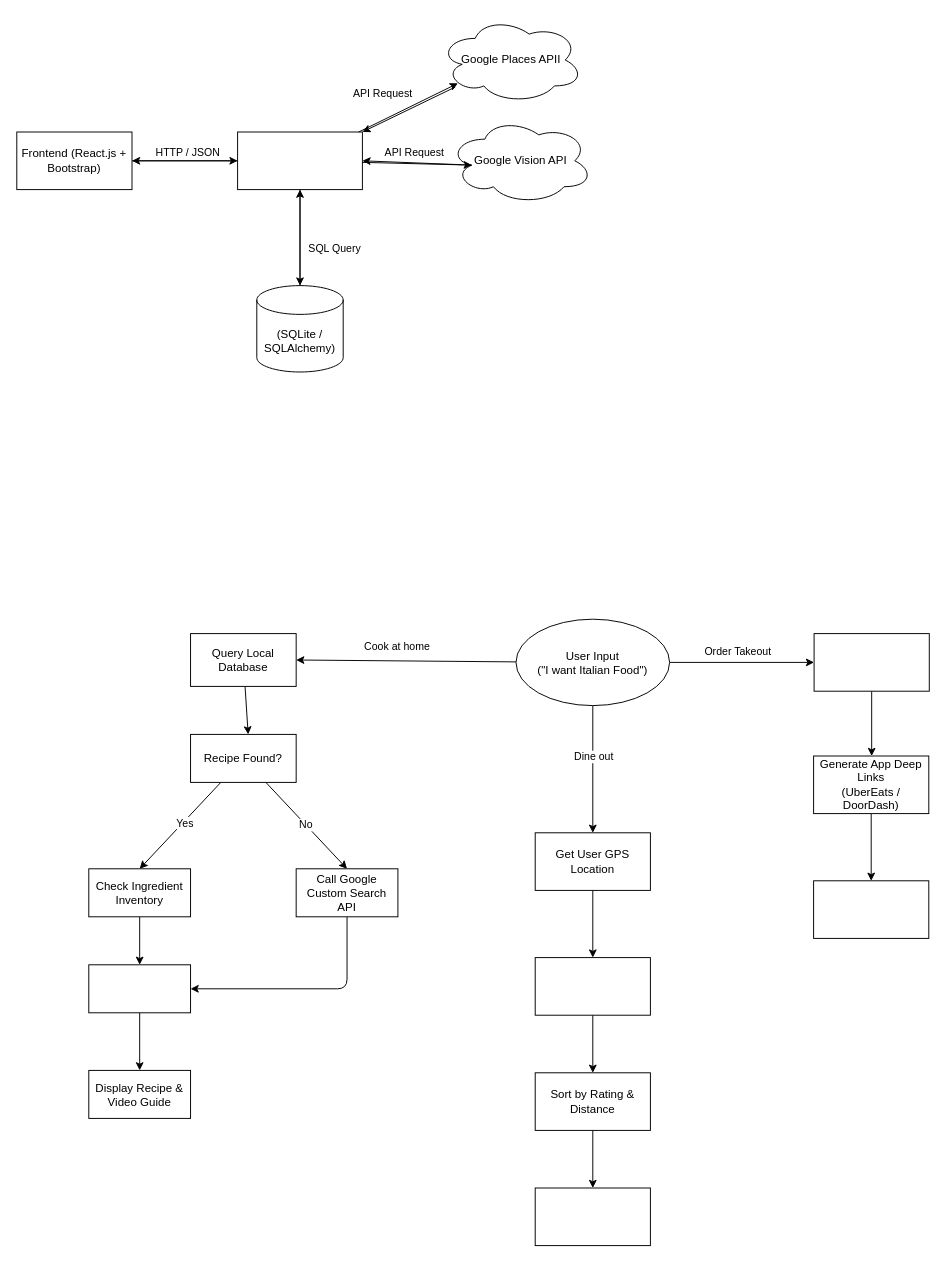
Image size: 947x1262. Some labels were removed from this diagram. The centre of each missing label's shape, as x and y in pixels:
Backend (Python Flask): the point at 299,160
Generate Shopping List (For Missing Items): the point at 139,988
Match Cuisine Category: the point at 871,662
Redirect to Delivery App: the point at 871,909
Render Map & Navigation Info: the point at 592,1216
Request Google Places API (Input: Location + Cuisine): the point at 592,986
